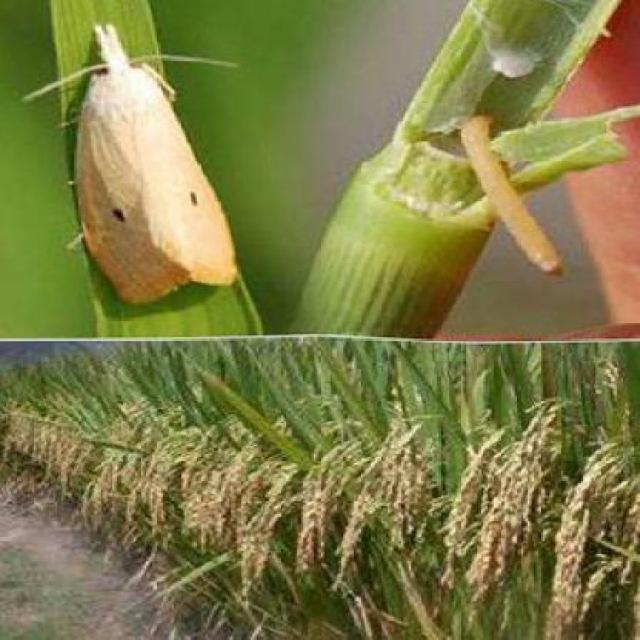stem-borer: (22, 20, 246, 311)
